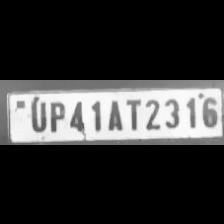1: (86, 96, 104, 132), (180, 94, 198, 128)
2: (141, 95, 161, 129)
3: (161, 94, 179, 128)
4: (66, 97, 86, 132)
6: (200, 93, 218, 127)
A: (103, 96, 123, 132)
P: (46, 97, 66, 131)
T: (122, 96, 142, 130)
U: (26, 97, 46, 131)
